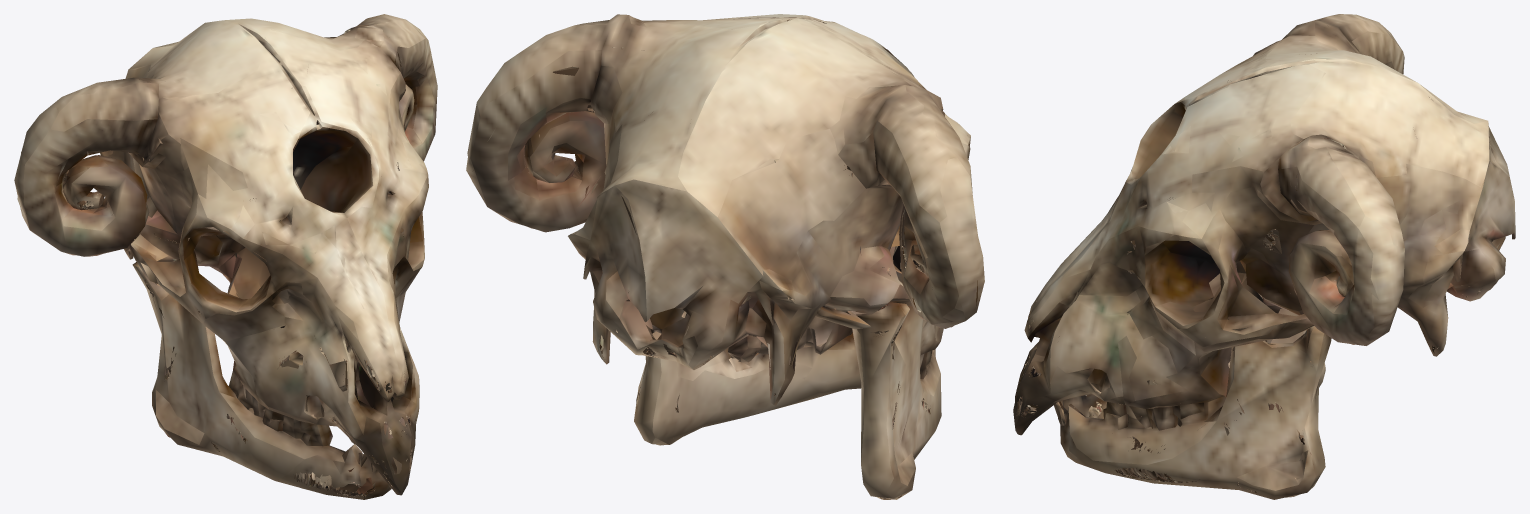
The model's file is spiral-antler-oracle-skull-optimized.glb.
The picture shows the model from 3 angles, left to right: view 1: azimuth 30°, elevation 25°; view 2: azimuth 150°, elevation 25°; view 3: azimuth 270°, elevation 25°; orthographic projection. The views are drawn at different scales.
Parts seen in each view (by area): view 1: geometry_0; view 2: geometry_0; view 3: geometry_0.
Boxes of the visible parts, bbox=[...] form: geometry_0: bbox=[14, 14, 437, 499]; geometry_0: bbox=[466, 14, 984, 499]; geometry_0: bbox=[1013, 14, 1515, 499].
Size of the model in its own units: 0.3791 by 0.3285 by 0.3786.
Materials: 1 (1 with a texture image).
